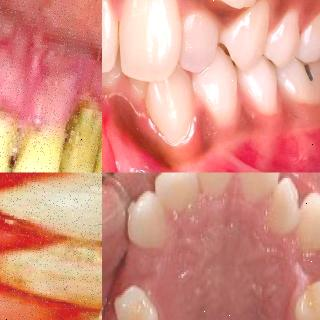Gum Swelling: (0, 172, 39, 320), (0, 58, 82, 124)
calculus: (48, 106, 102, 172), (21, 115, 78, 173), (0, 110, 28, 172), (86, 123, 102, 173)
maligned: (144, 60, 192, 156), (169, 1, 225, 71), (258, 187, 318, 235), (288, 194, 320, 252), (225, 173, 293, 195)
